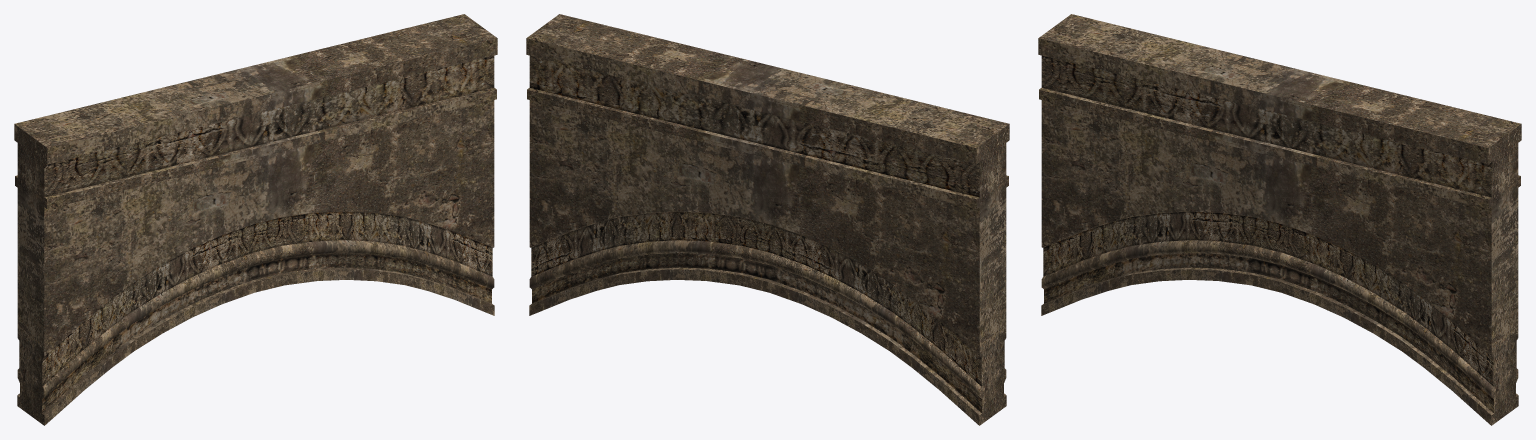
The model's file is materials_5_arch_8.fbx.
3 renders of one model, left to right at view 1: azimuth 30°, elevation 25°; view 2: azimuth 150°, elevation 25°; view 3: azimuth 330°, elevation 25°, orthographic.
Visible parts, largest first — view 1: materials_5_arch_8; view 2: materials_5_arch_8; view 3: materials_5_arch_8.
Boxes of the visible parts, left/top/right/bottom form: materials_5_arch_8: left=14, top=14, right=497, bottom=425; materials_5_arch_8: left=526, top=14, right=1009, bottom=425; materials_5_arch_8: left=1038, top=14, right=1521, bottom=425.
Size of the model in its own units: 157 by 93.37 by 20.03.
